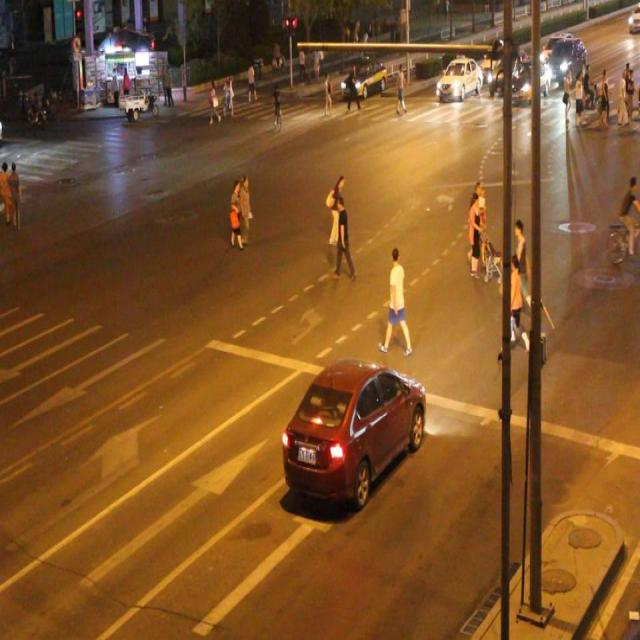car: (279, 359, 426, 512)
